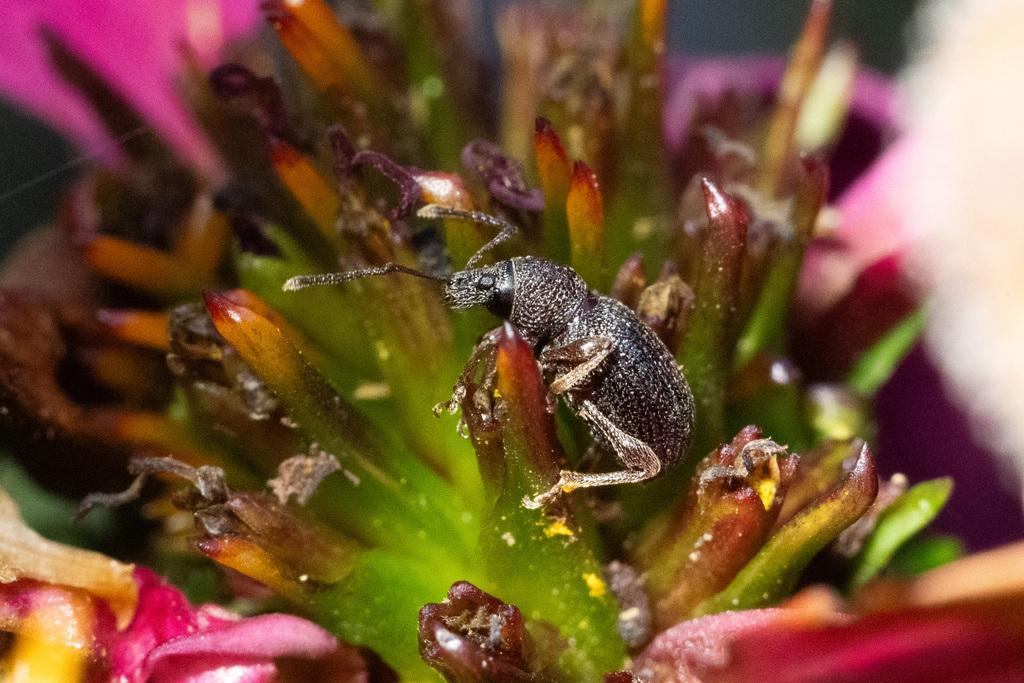weevils: (250, 156, 739, 572)
